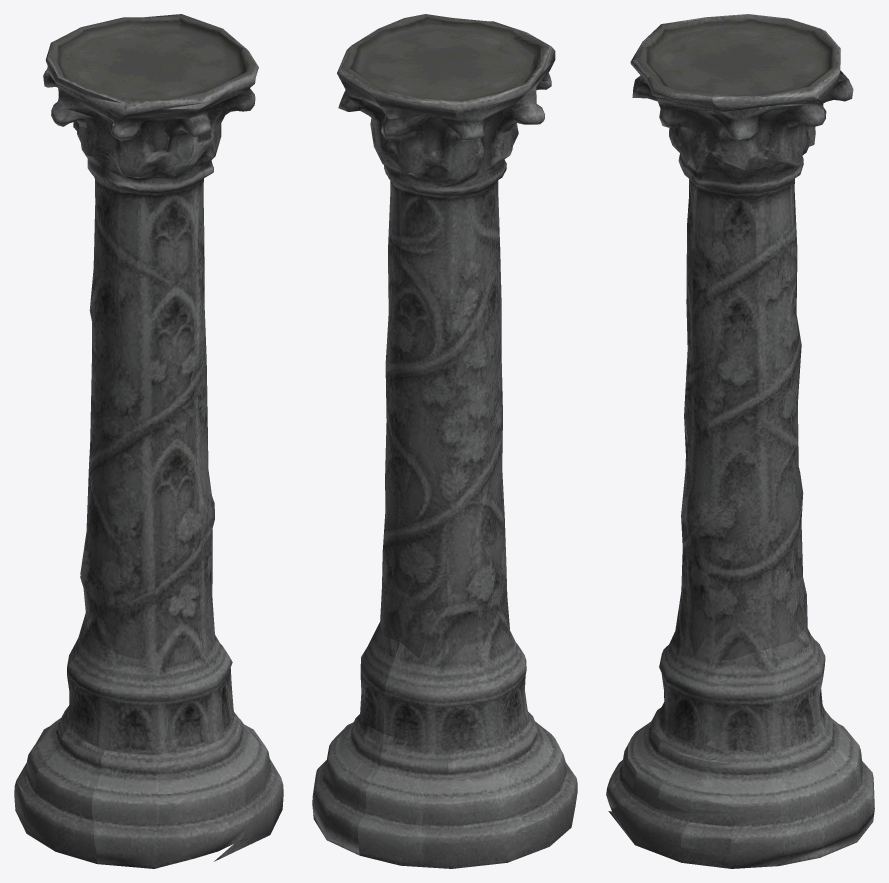
The model's file is carved-pillar-pixelated.glb.
3 renders of one model, left to right at view 1: azimuth 30°, elevation 25°; view 2: azimuth 150°, elevation 25°; view 3: azimuth 270°, elevation 25°, orthographic.
Visible parts, largest first — view 1: geometry_0; view 2: geometry_0; view 3: geometry_0.
Part boxes in pixels (x1,y1,x2,y2): geometry_0: (14, 14, 283, 868); geometry_0: (312, 14, 577, 868); geometry_0: (606, 14, 874, 868).
Bounding box in the file's own units: 0.6396 × 2 × 0.6432.
1 material, 1 textured.
